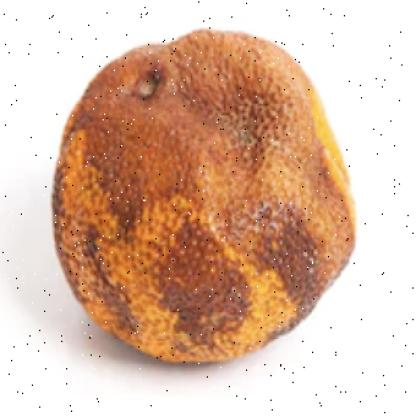rotten: (52, 30, 355, 366)
